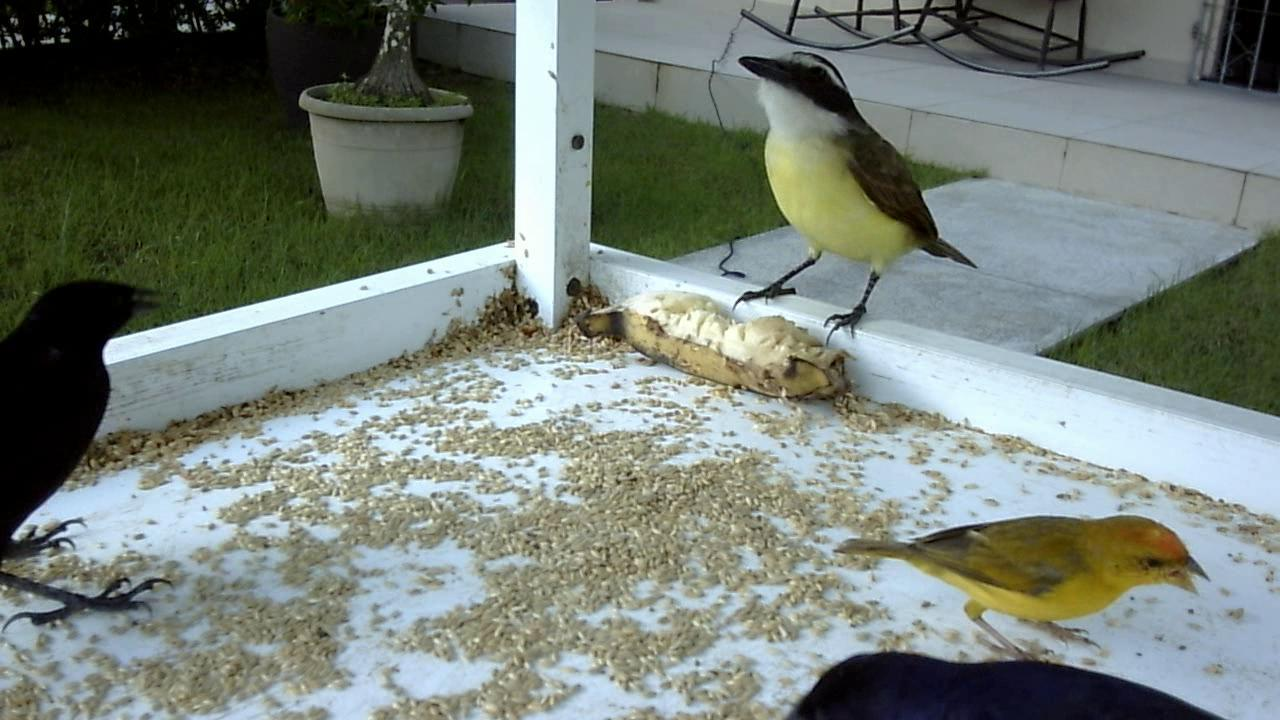bem_te_vi: (696, 37, 997, 363)
canario_do_amazonas: (840, 504, 1205, 669)
chupim: (1, 264, 187, 656)
